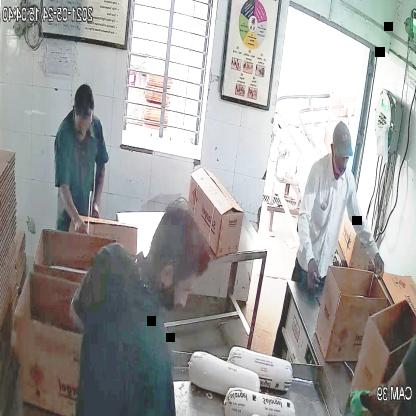goggles: (71, 112, 96, 134)
